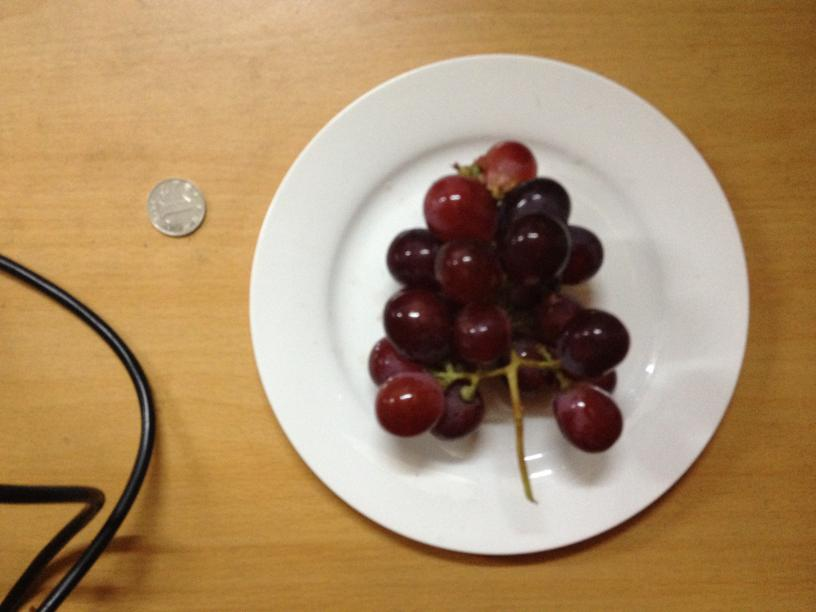coin: (148, 177, 205, 235)
grape: (371, 142, 631, 452)
